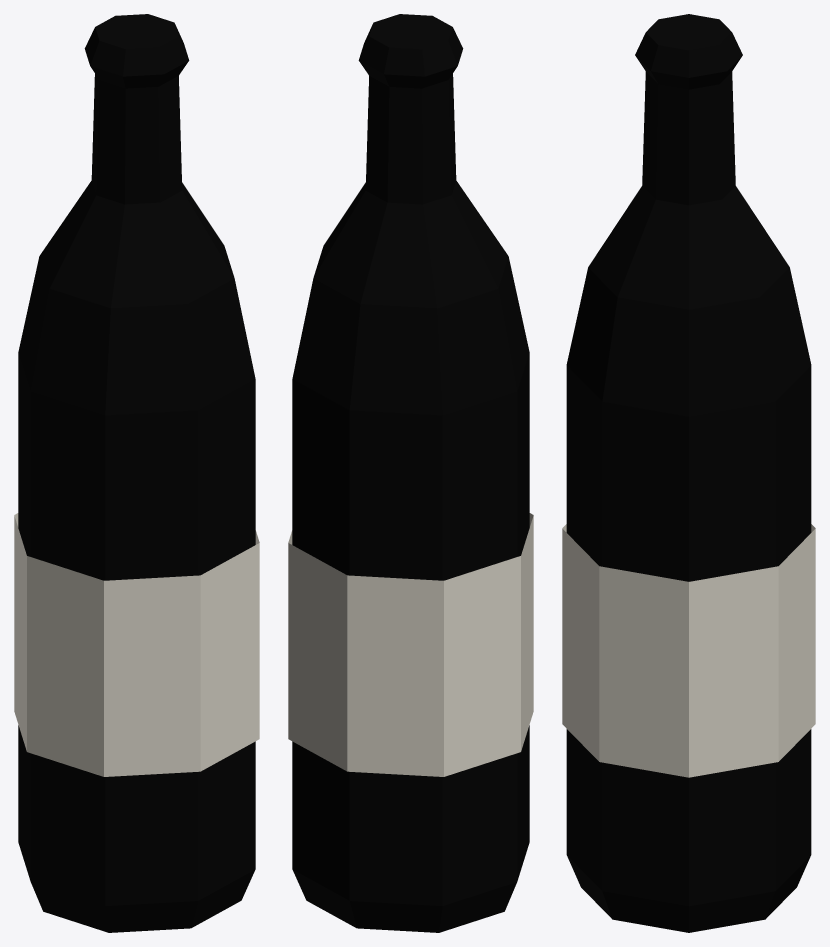
Rendered from Item_bottle_empty.fbx.
3 renders of one model, left to right at view 1: azimuth 30°, elevation 25°; view 2: azimuth 150°, elevation 25°; view 3: azimuth 270°, elevation 25°, orthographic.
Parts seen in each view (by area): view 1: Bottle.002, Label.002; view 2: Bottle.002, Label.002; view 3: Bottle.002, Label.002.
Boxes of the visible parts, <box> form: Bottle.002: <box>18,14,255,932</box>; Label.002: <box>14,513,259,776</box>; Bottle.002: <box>292,14,529,932</box>; Label.002: <box>288,513,533,776</box>; Bottle.002: <box>566,14,811,932</box>; Label.002: <box>562,524,815,777</box>.
Size of the model in its own units: 0.095 by 0.3537 by 0.095.
